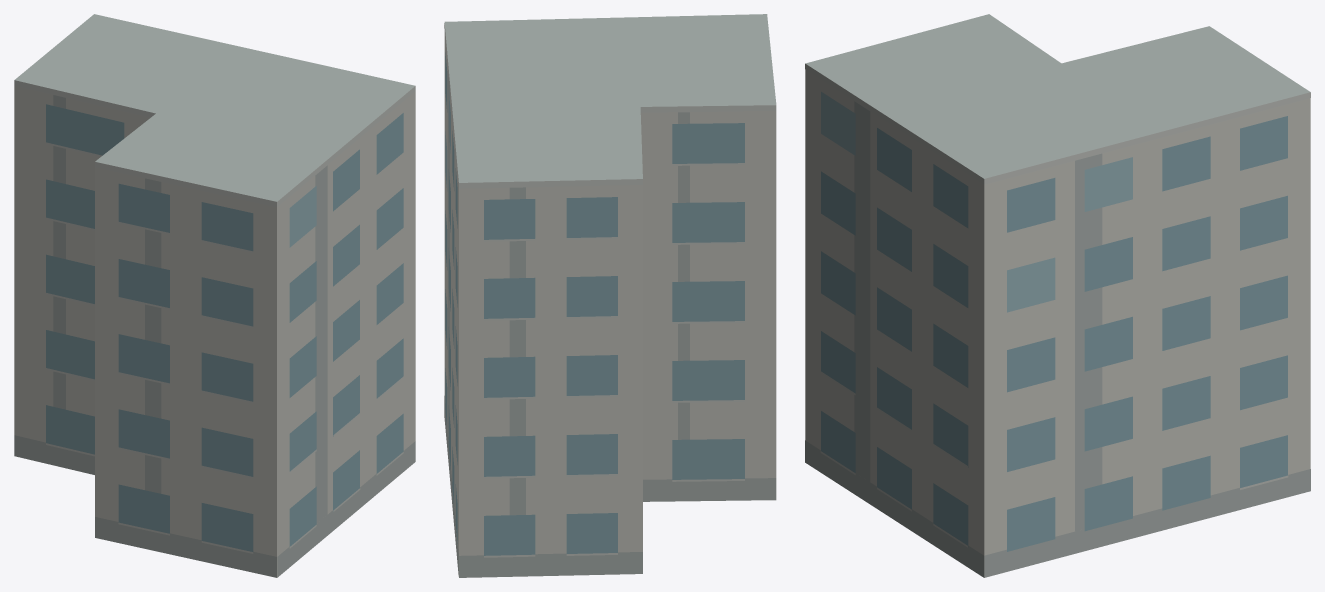
File: survey-upis-32936937.glb
3 renders of one model, left to right at view 1: azimuth 30°, elevation 25°; view 2: azimuth 150°, elevation 25°; view 3: azimuth 270°, elevation 25°, orthographic. The views are drawn at different scales.
Visible parts, largest first — view 1: survey-upis-32936937.tmp; view 2: survey-upis-32936937.tmp; view 3: survey-upis-32936937.tmp.
Part boxes in pixels (bbox=[...]): survey-upis-32936937.tmp: bbox=[14, 14, 415, 577]; survey-upis-32936937.tmp: bbox=[444, 14, 776, 577]; survey-upis-32936937.tmp: bbox=[805, 14, 1310, 577].
Bounding box in the file's own units: 14.5 × 16.35 × 18.78.
